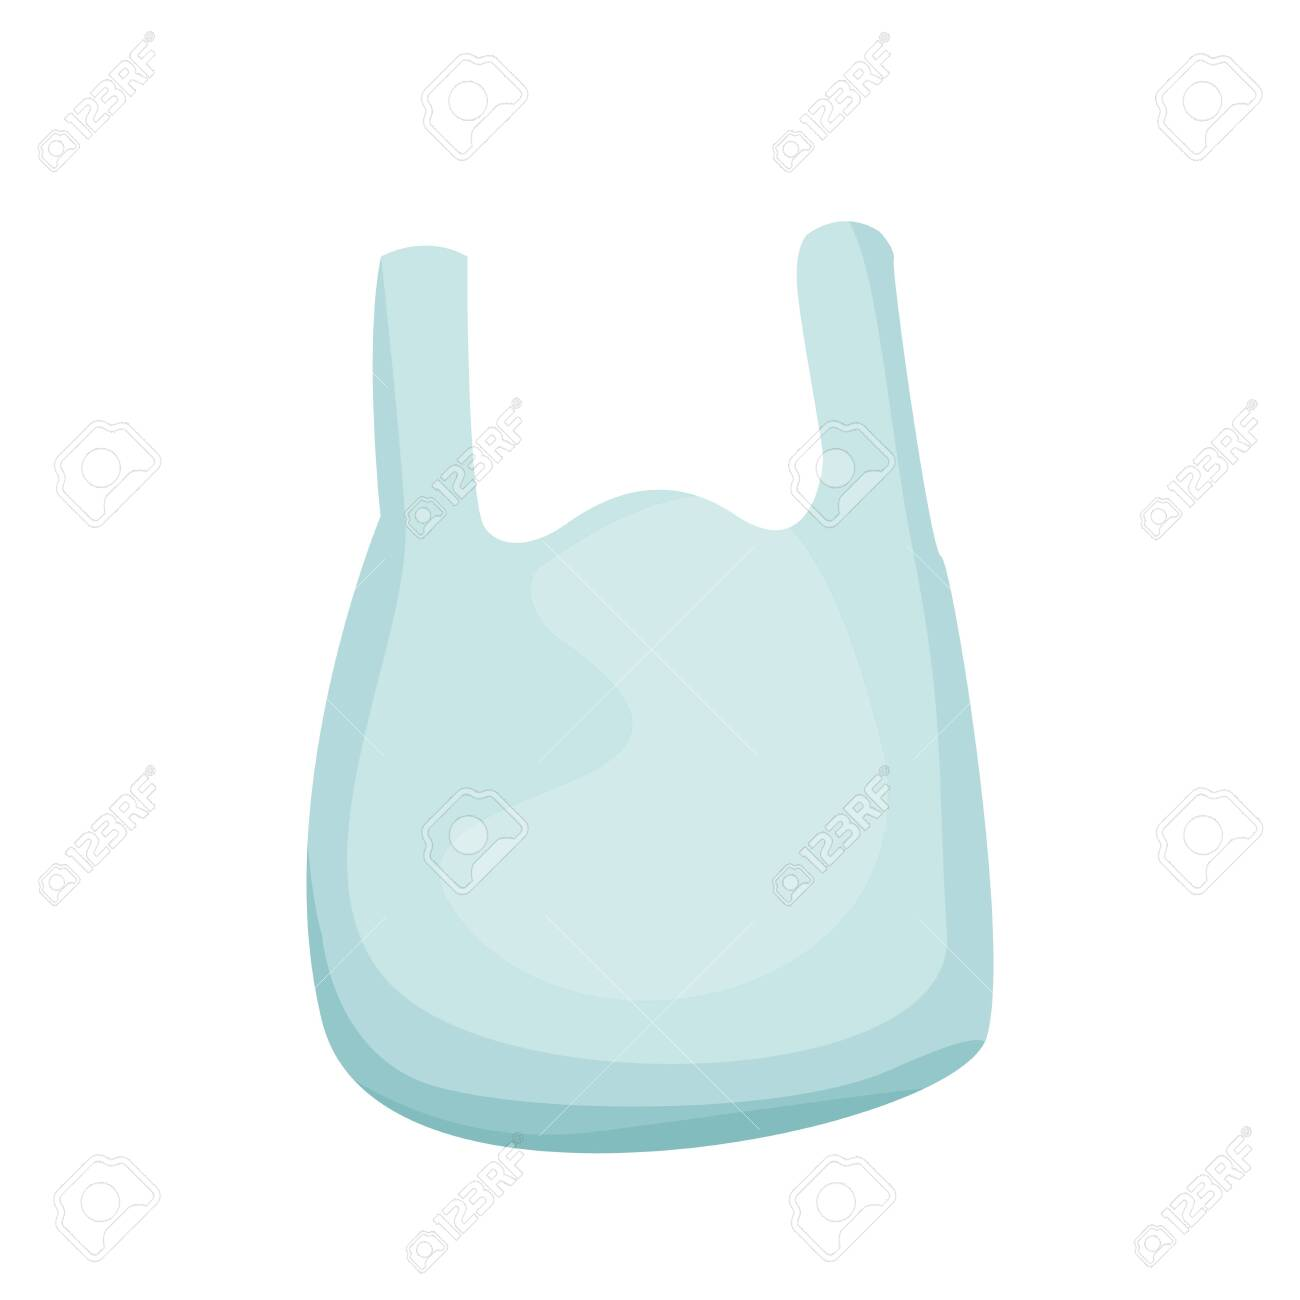plastic_bagwdw: (171, 160, 1054, 1248)
